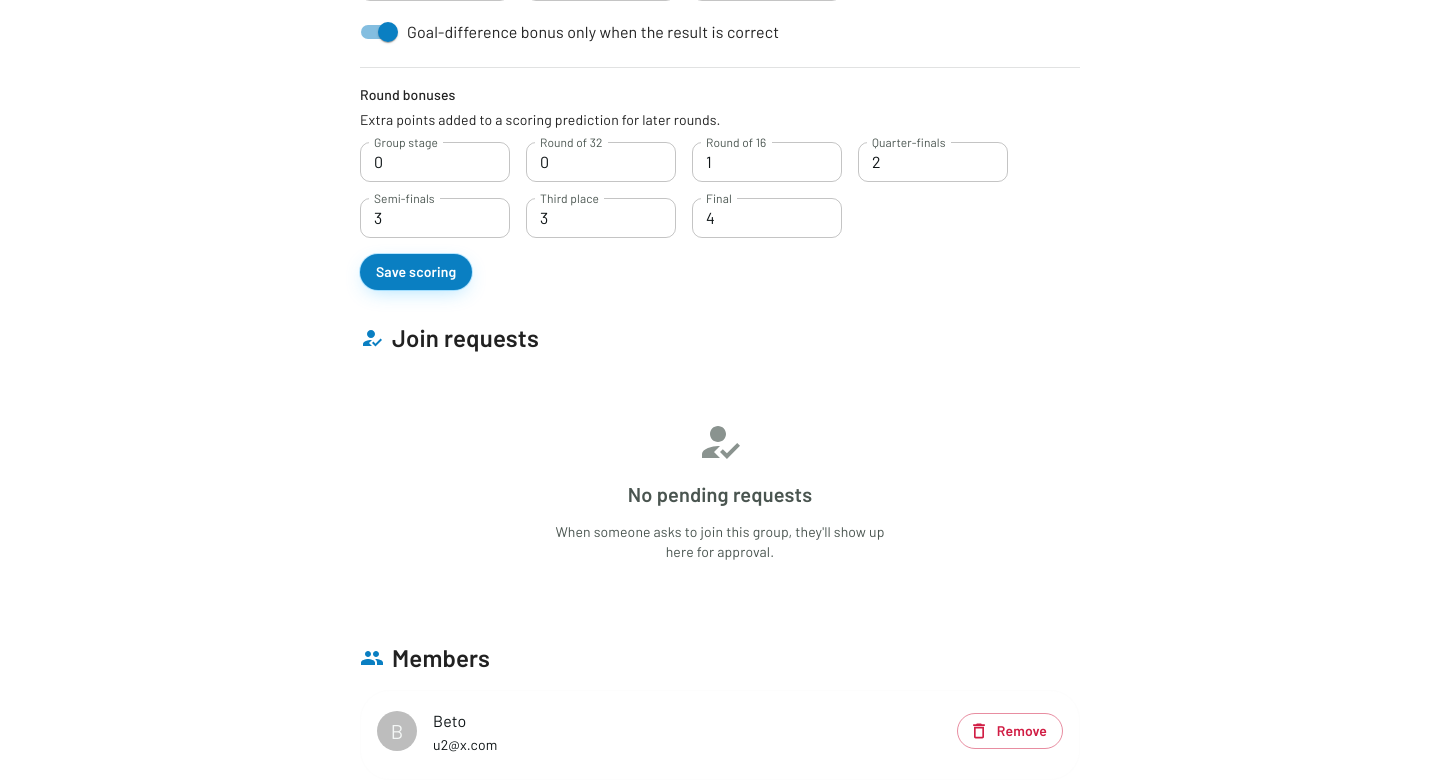
Scenario: AdminPage — remove member › a rejected prediction delete shows the cleanup snackbar but the removal still completes
(page scrolled)
Click the button with aria-label "remove beto" at (1010, 731), box left=957, top=713, right=1063, bottom=749
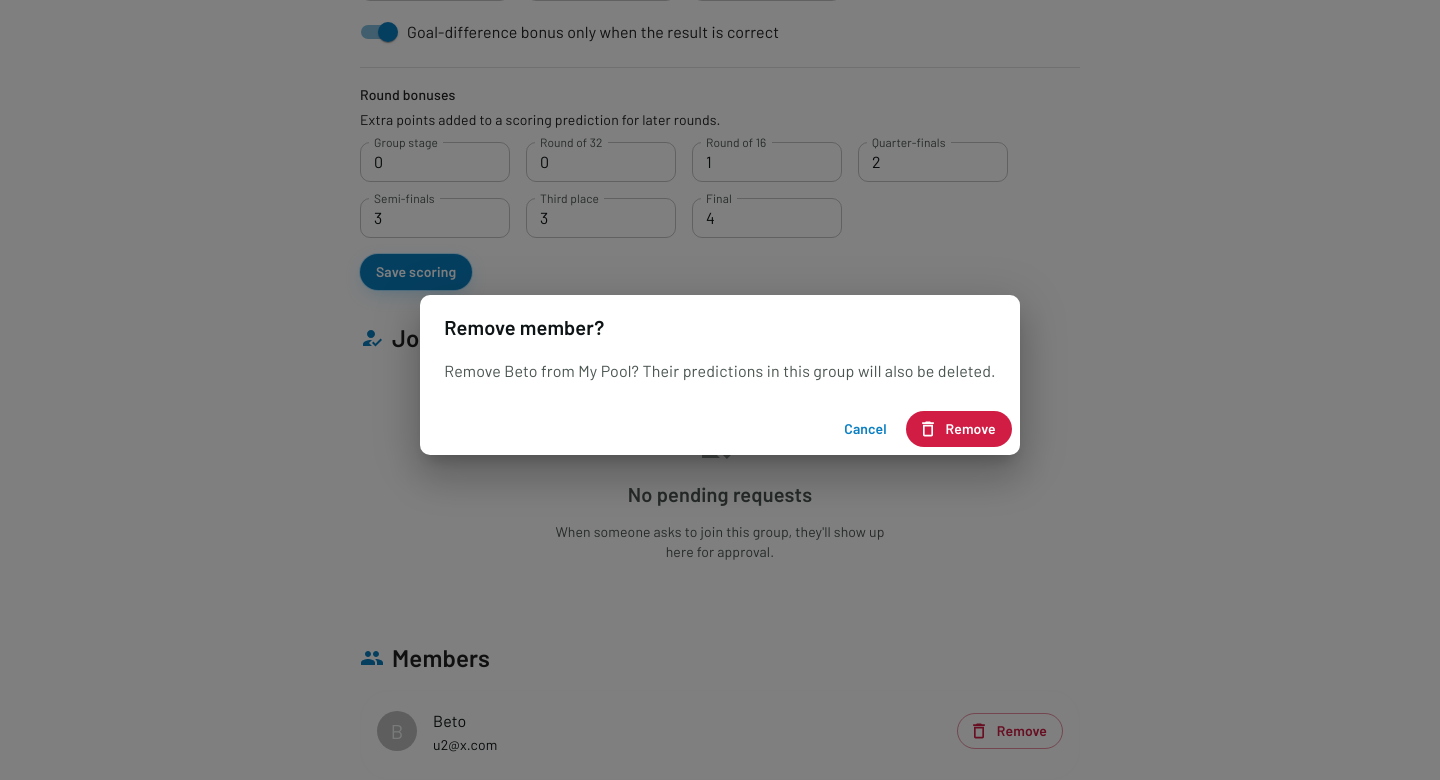
Click the button "Remove" at (959, 429), box left=906, top=411, right=1012, bottom=447
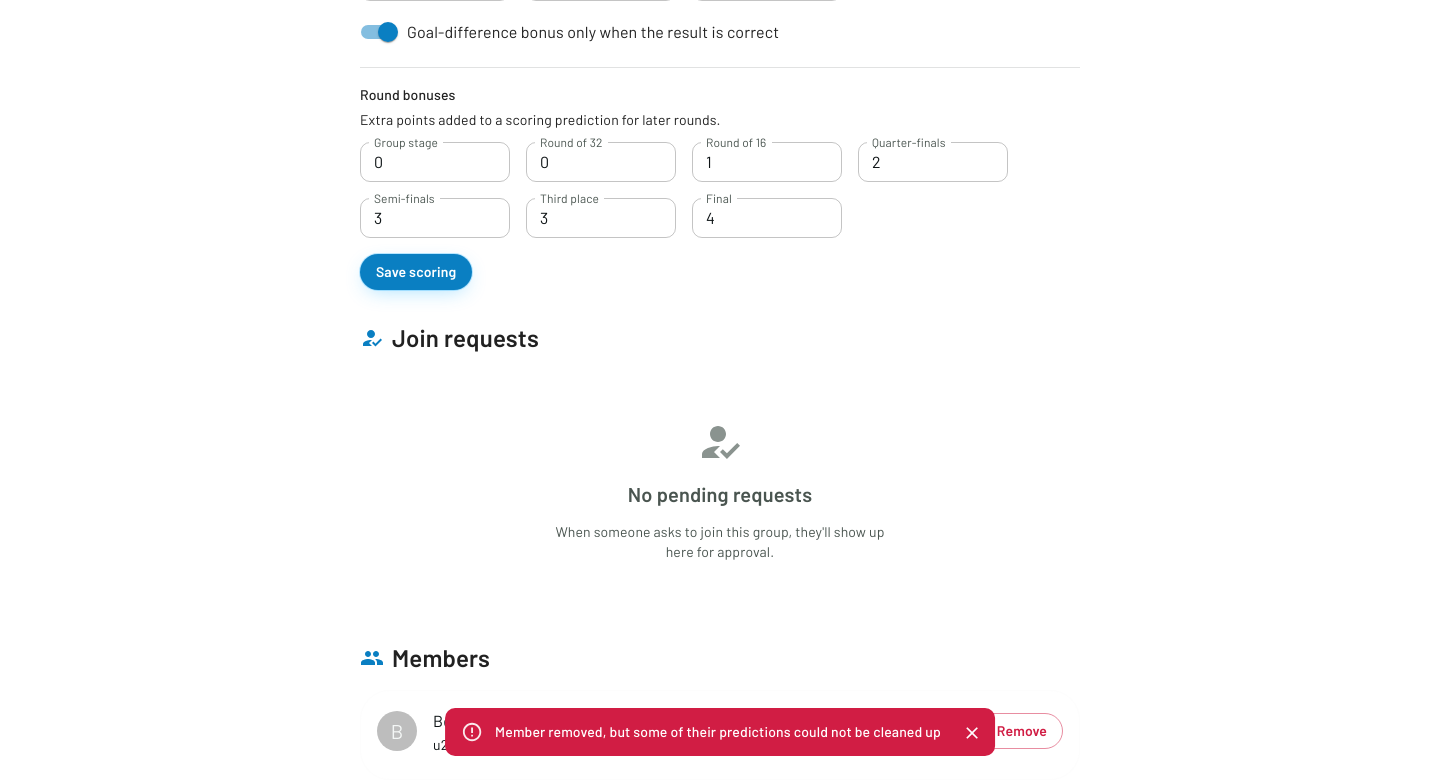
Result: the text "Member removed, but some of their predictions could not be cleaned up" is shown at left=495, top=723, right=941, bottom=740
Result: the dialog is gone
